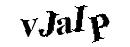I: (71, 5, 87, 31)
J: (38, 11, 59, 36)
P: (87, 14, 109, 41)
a: (56, 17, 72, 33)
v: (20, 19, 38, 35)
